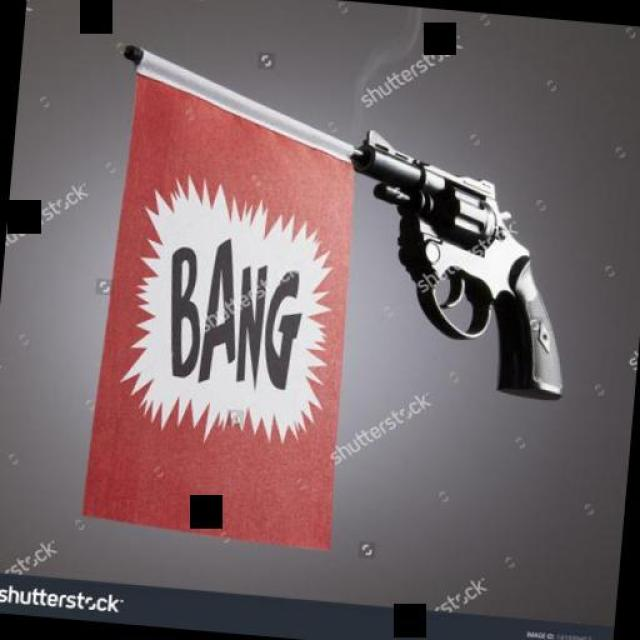gun: (328, 128, 582, 402)
